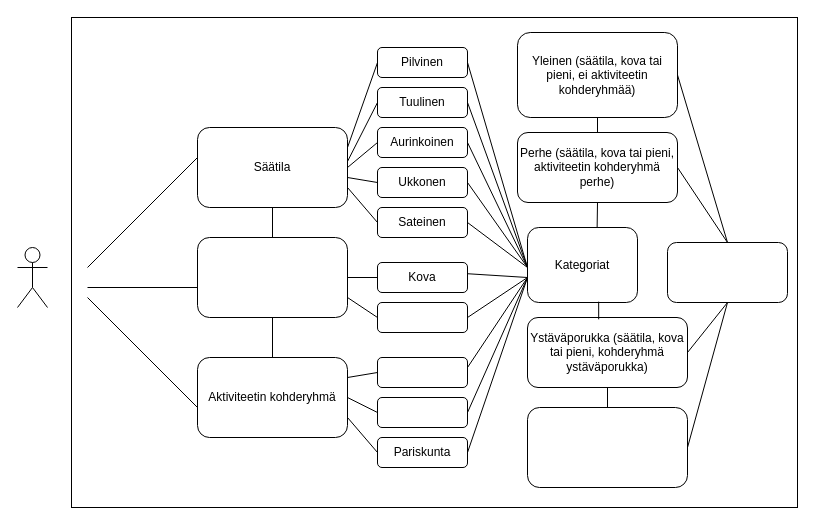
Some shapes in this 815 by 525 pixel diagram are drawn without their labels. Each missing label, with the centre of its shape:
"(Jos sade, tuulinen tai lumisade) Kova vai pieni?" belongs at point 272,277.
"Actor" belongs at point 32,277.
"Aktiviteetit" belongs at point 727,272.
"Pariskunta (säätila, kova tai pieni, kohderyhmä pariskunta)" belongs at point 607,447.
"Perhe" belongs at point 422,372.
"Pieni" belongs at point 422,317.
"Ystäväporukka" belongs at point 422,412.
